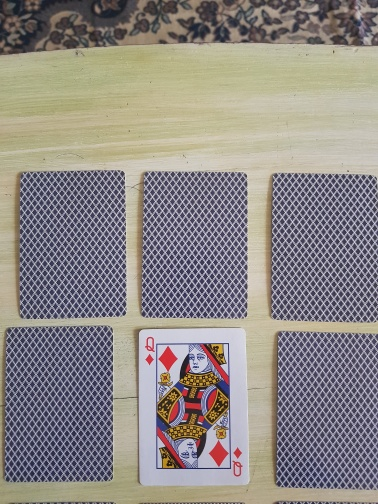queen: (137, 327, 251, 487)
